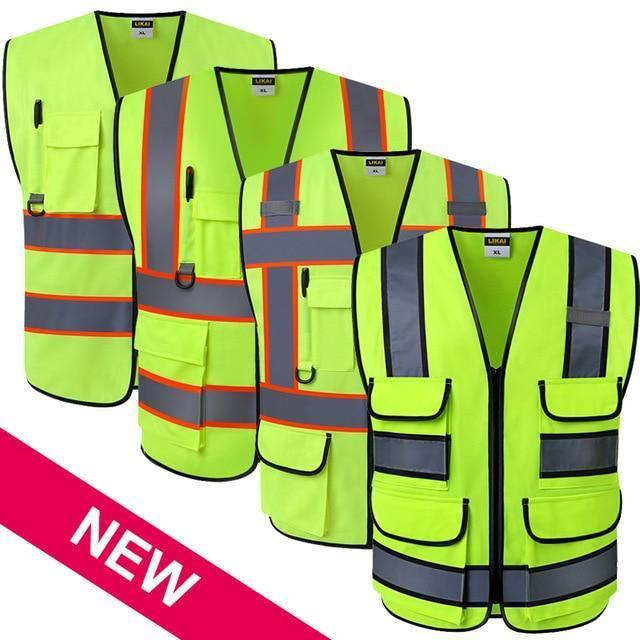vest: (115, 61, 415, 484), (350, 225, 639, 636), (1, 11, 279, 402), (239, 154, 512, 548)
